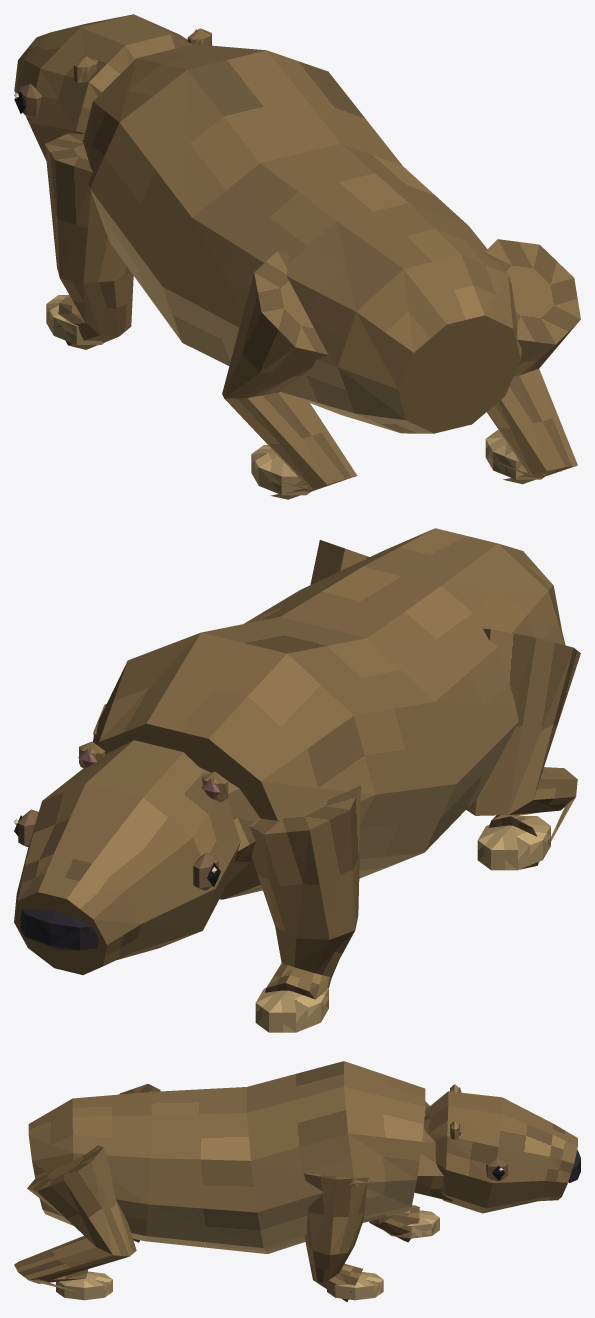
File: mon_lemming.glb
3 renders of one model, top to bottom at view 1: azimuth 30°, elevation 25°; view 2: azimuth 150°, elevation 25°; view 3: azimuth 270°, elevation 25°, orthographic. The views are drawn at different scales.
Parts seen in each view (by area): view 1: closed_body; view 2: closed_body; view 3: closed_body.
Part boxes in pixels (x1,y1,x2,y2): closed_body: [14, 14, 580, 499]; closed_body: [14, 528, 580, 1032]; closed_body: [14, 1061, 580, 1301].
Size of the model in its own units: 0.0405 by 0.0432 by 0.1117.
Materials: 1 (1 with a texture image).
